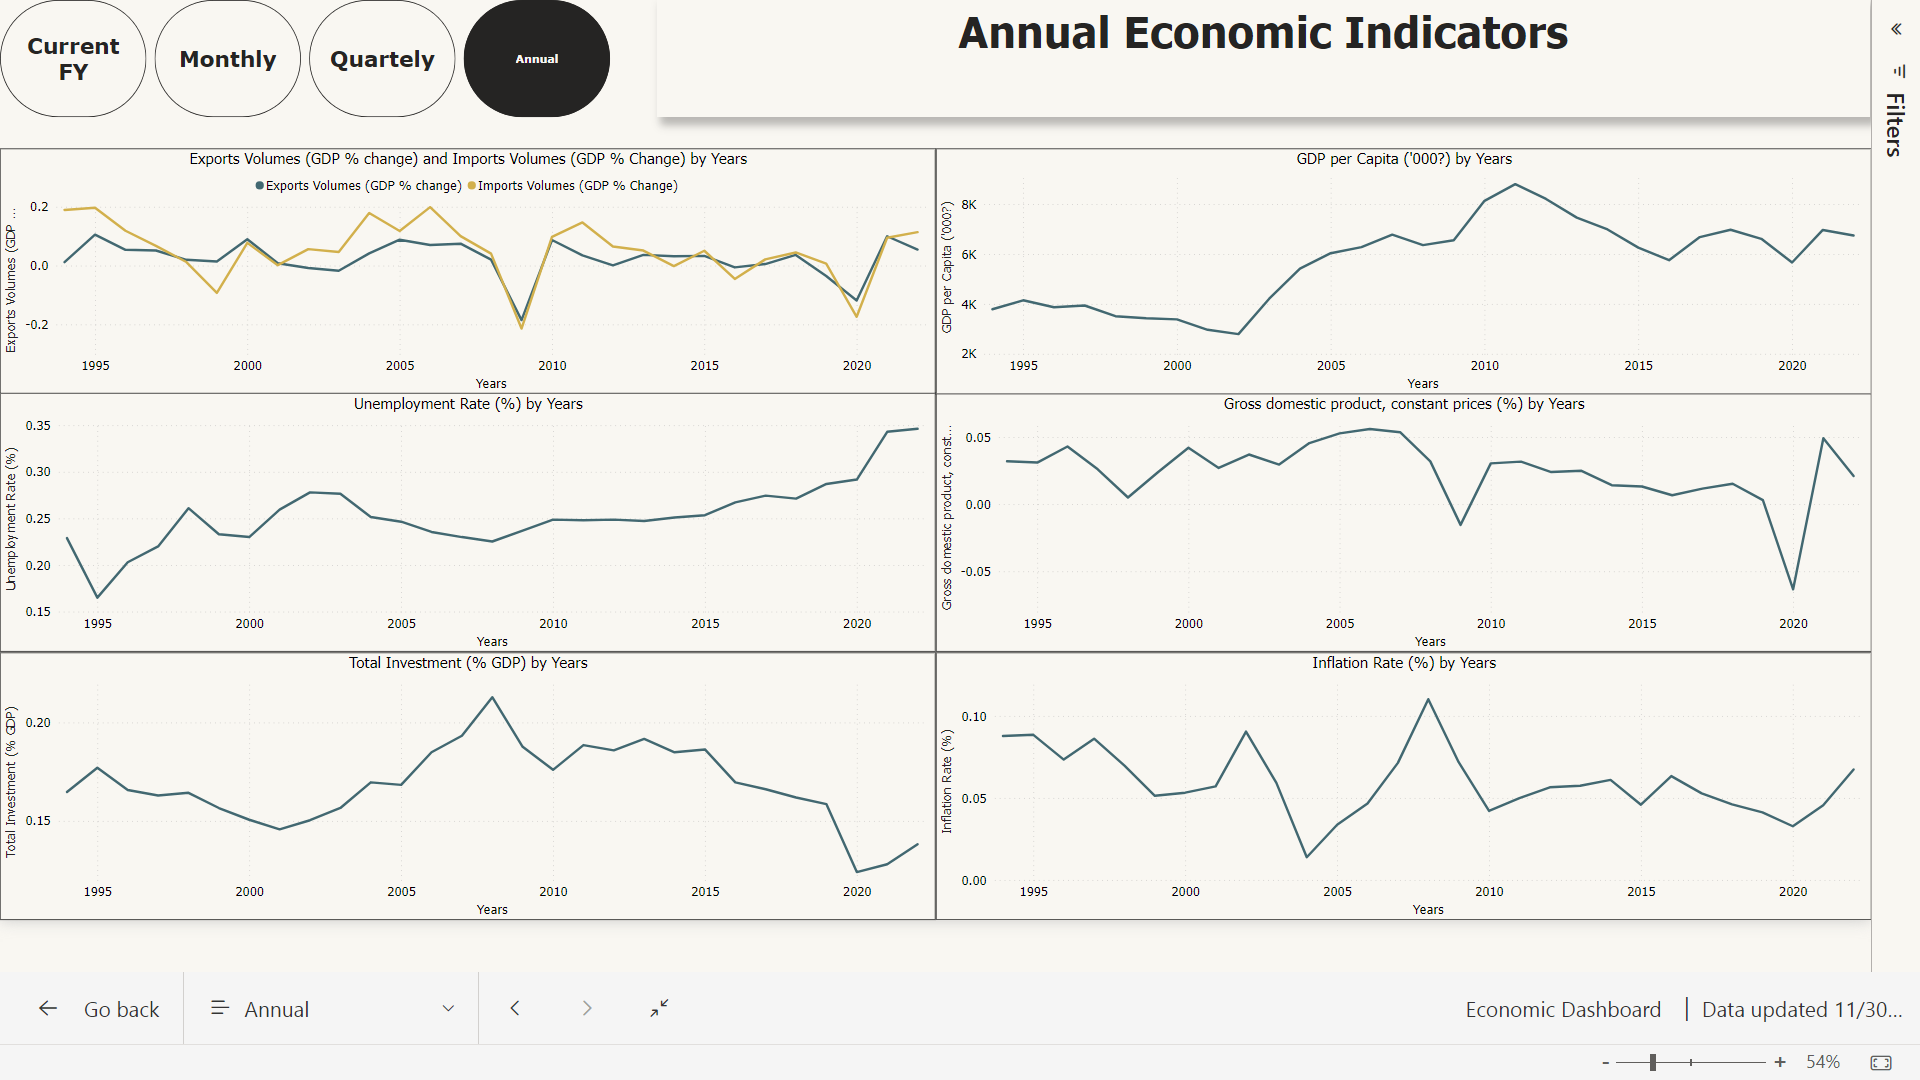

What the dashboard file says about the page in this screenshot:
{"tool":"powerbi","page":{"name":"Annual","canvas":[2300,1131],"ordinal":3},"visuals":[{"type":"lineChart","fields":{"Category":["Annully Data.Years "],"Y":["Sum(Annully Data.Exports Volumes (GDP % change))","Sum(Annully Data.Imports Volumes (GDP % Change))"]},"box":[0,182.2,1150,301.8],"z":0},{"type":"lineChart","fields":{"Category":["Annully Data.Years "],"Y":["Sum(Annully Data.Gross domestic product, constant prices (%))"]},"box":[1150,483.9,1150,318.1],"z":1000},{"type":"lineChart","fields":{"Category":["Annully Data.Years "],"Y":["Sum(Annully Data.Inflation Rate (%))"]},"box":[1150,802,1150,329],"z":2000},{"type":"lineChart","fields":{"Y":["Sum(Annully Data.Total Investment (% GDP))"],"Category":["Annully Data.Years "]},"box":[0,802,1150,329],"z":3000},{"type":"lineChart","fields":{"Y":["Sum(Annully Data.Unemployment Rate (%))"],"Category":["Annully Data.Years "]},"box":[0,483.9,1150,318.1],"z":4000},{"type":"textbox","box":[808.1,0,1491,144.2],"z":6000},{"type":"pageNavigator","box":[0,0,750.4,144.1],"z":7000},{"type":"lineChart","fields":{"Y":["Sum(Annully Data.GDP per Capita ('000?))"],"Category":["Annully Data.Years "]},"box":[1150,182.2,1150,301.8],"z":8000}]}

Visuals, with their boxes on the page's 2300x1131 design canvas (x1, y1, x2, y2). These are canvas units, not pixel positions in the 1920x1080 screenshot, which may show the page scaled, cropped or inside an application window:
lineChart - Annully Data.Years  x Sum(Annully Data.Exports Volumes (GDP % change)): x1=0 y1=182 x2=1150 y2=484
lineChart - Annully Data.Years  x Sum(Annully Data.Gross domestic product, constant prices (%)): x1=1150 y1=484 x2=2300 y2=802
lineChart - Annully Data.Years  x Sum(Annully Data.Inflation Rate (%)): x1=1150 y1=802 x2=2300 y2=1131
lineChart - Sum(Annully Data.Total Investment (% GDP)) x Annully Data.Years : x1=0 y1=802 x2=1150 y2=1131
lineChart - Sum(Annully Data.Unemployment Rate (%)) x Annully Data.Years : x1=0 y1=484 x2=1150 y2=802
textbox: x1=808 y1=0 x2=2299 y2=144
pageNavigator: x1=0 y1=0 x2=750 y2=144
lineChart - Sum(Annully Data.GDP per Capita ('000?)) x Annully Data.Years : x1=1150 y1=182 x2=2300 y2=484
